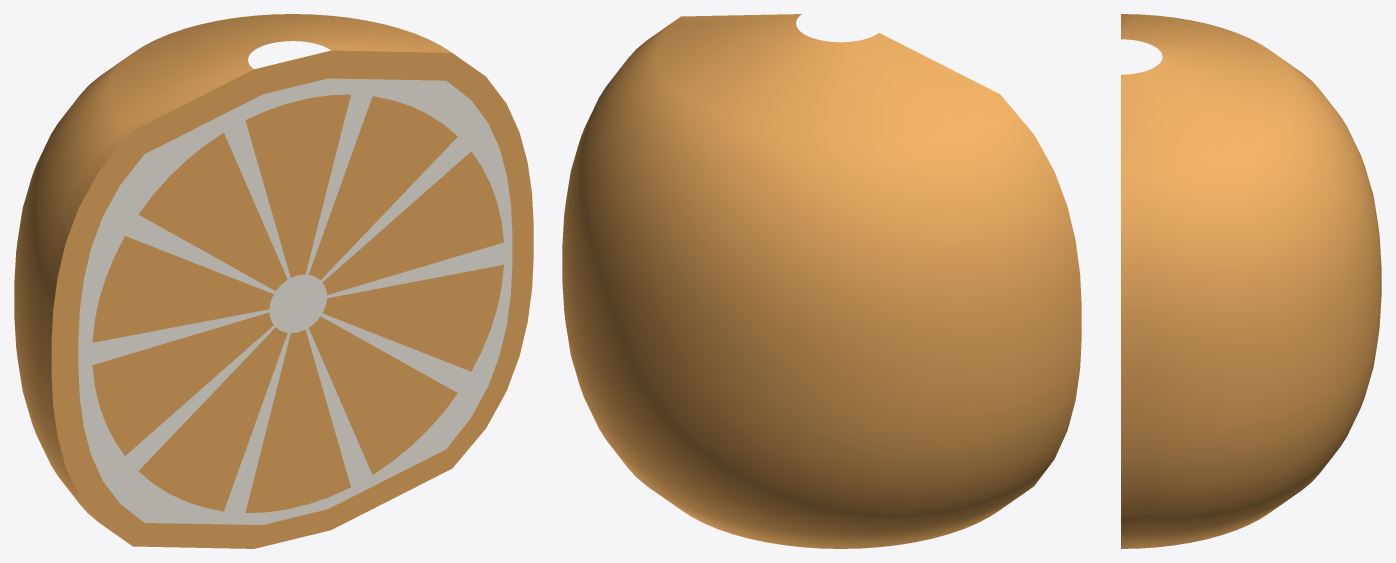
Rendered from fresh-produce-and-groceries-orange-half-e8c27869__24326.glb.
3 renders of one model, left to right at view 1: azimuth 30°, elevation 25°; view 2: azimuth 150°, elevation 25°; view 3: azimuth 270°, elevation 25°, orthographic. The views are drawn at different scales.
Visible parts, largest first — view 1: orange-half; view 2: orange-half; view 3: orange-half.
Boxes of the visible parts, box(x1,y1,x2,y2) form: orange-half: box(14, 14, 533, 548); orange-half: box(562, 14, 1081, 548); orange-half: box(1121, 14, 1381, 548).
Size of the model in its own units: 0.08 by 0.076 by 0.0416.
